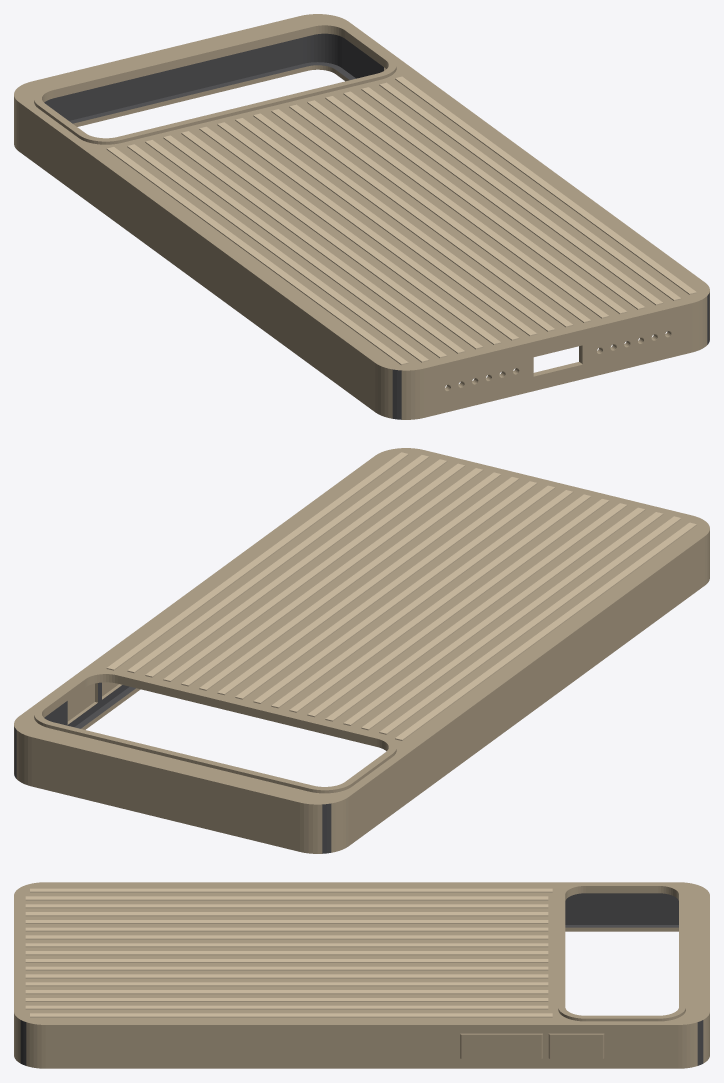
The model's file is kilif-bar-serit-kum.glb.
The picture shows the model from 3 angles, top to bottom: view 1: azimuth 30°, elevation 25°; view 2: azimuth 150°, elevation 25°; view 3: azimuth 270°, elevation 25°; orthographic projection. The views are drawn at different scales.
Visible parts, largest first — view 1: Kilif; view 2: Kilif; view 3: Kilif.
Boxes of the visible parts, x1,y1,x2,y2 form: Kilif: (14,14,709,419); Kilif: (14,448,709,853); Kilif: (14,882,709,1068).
Bounding box in the file's own units: 0.0774 × 0.0117 × 0.1584.
